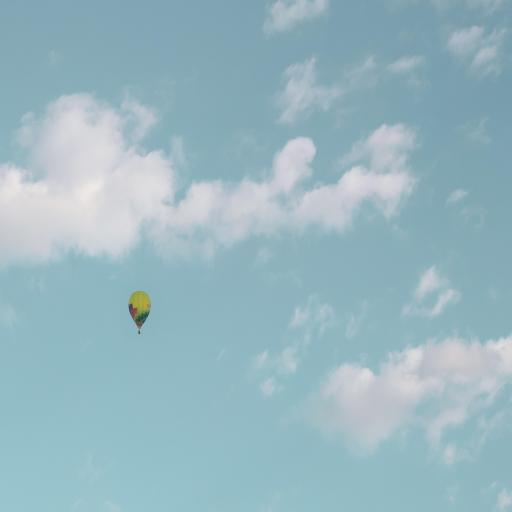hot air ballon: (129, 291, 151, 334)
